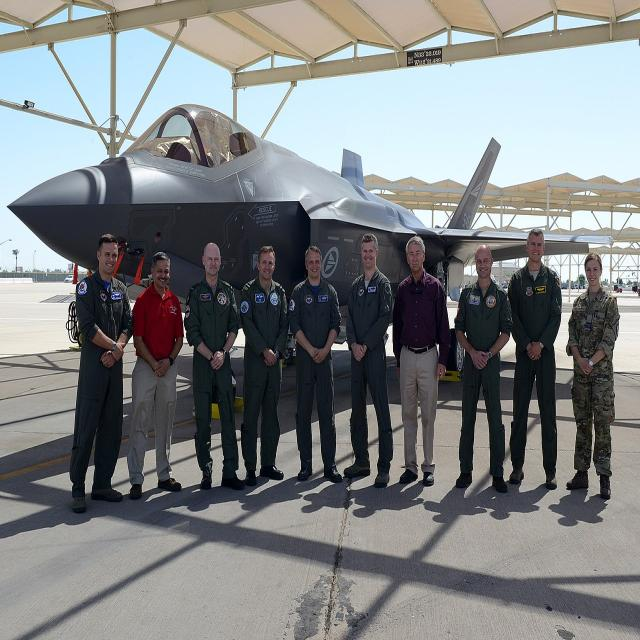MIL_Plane: (4, 103, 614, 405)
